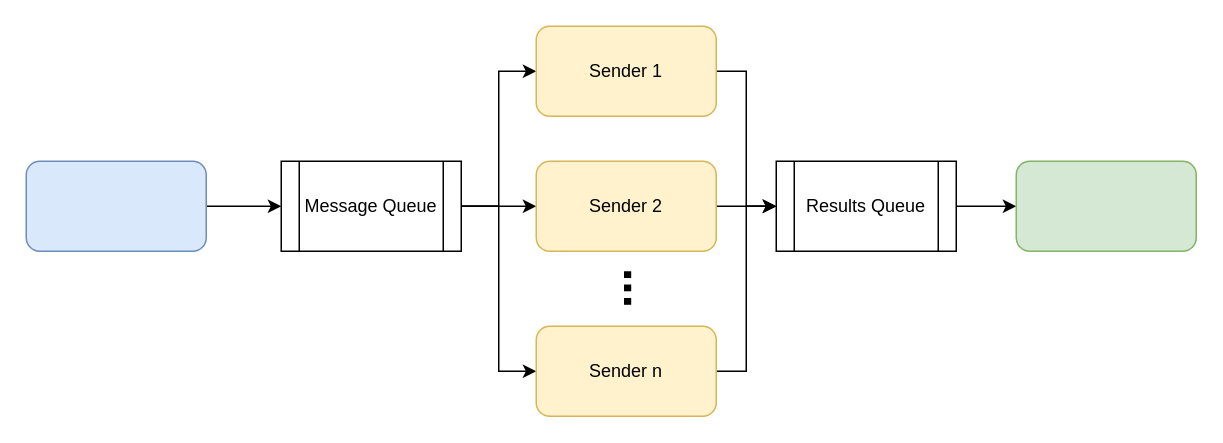
Some shapes in this 1223 by 443 pixel diagram are drawn without their labels. The shapes that lost their labels are listed below. From the top down, each one's centre as x and y in pixels, then its label:
At pixel 115 205: "Producer".
At pixel 1105 205: "Progress Monitor".
